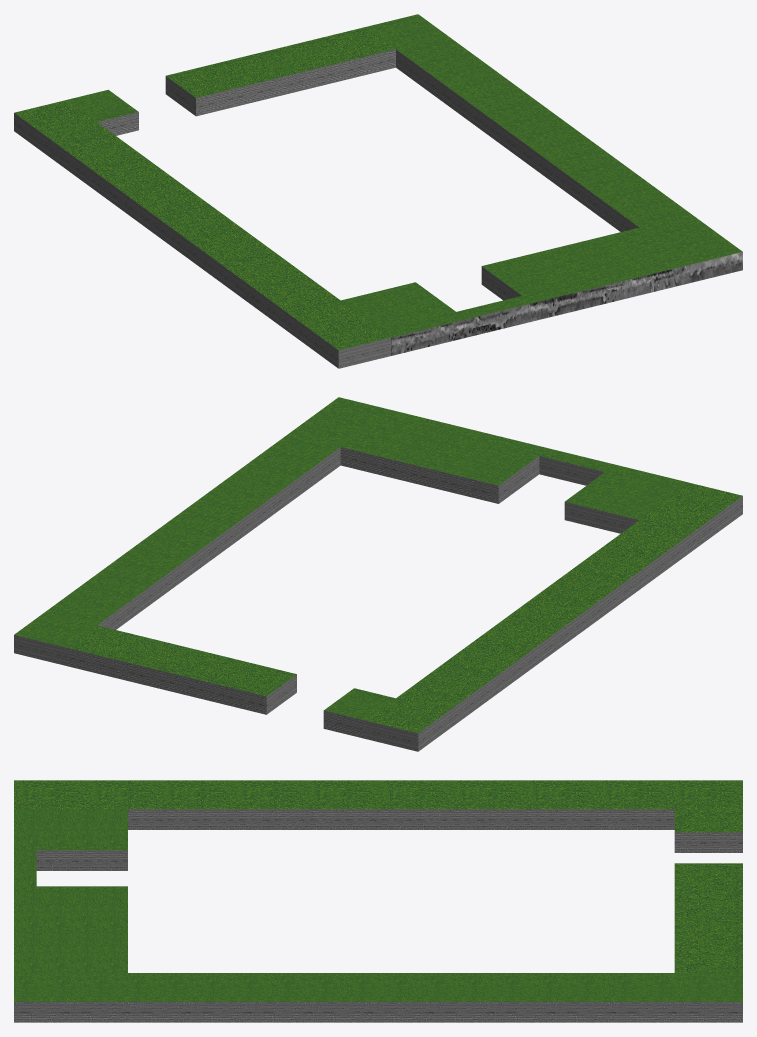
File: ChasePSWall.fbx
3 views of the same model, one above another, from view 1: azimuth 30°, elevation 25°; view 2: azimuth 150°, elevation 25°; view 3: azimuth 270°, elevation 25° (orthographic). The views are drawn at different scales.
Visible parts, largest first — view 1: ChasePSWall22, ChasePSWall12, ChasePSWall32, ChasePSWall42; view 2: ChasePSWall22, ChasePSWall12, ChasePSWall32, ChasePSWall42; view 3: ChasePSWall12, ChasePSWall22, ChasePSWall32, ChasePSWall42.
Part boxes in pixels (x1=…): ChasePSWall22: x1=14, y1=100, x2=391, y2=368; ChasePSWall12: x1=366, y1=14, x2=742, y2=282; ChasePSWall32: x1=341, y1=227, x2=690, y2=355; ChasePSWall42: x1=67, y1=27, x2=395, y2=135; ChasePSWall22: x1=365, y1=483, x2=742, y2=751; ChasePSWall12: x1=14, y1=397, x2=390, y2=665; ChasePSWall32: x1=340, y1=410, x2=689, y2=533; ChasePSWall42: x1=66, y1=625, x2=395, y2=738; ChasePSWall12: x1=14, y1=973, x2=742, y2=1022; ChasePSWall22: x1=14, y1=780, x2=742, y2=829; ChasePSWall32: x1=14, y1=809, x2=127, y2=972; ChasePSWall42: x1=674, y1=809, x2=742, y2=972.
Bounding box in the file's own units: 2300 × 100 × 3200.
